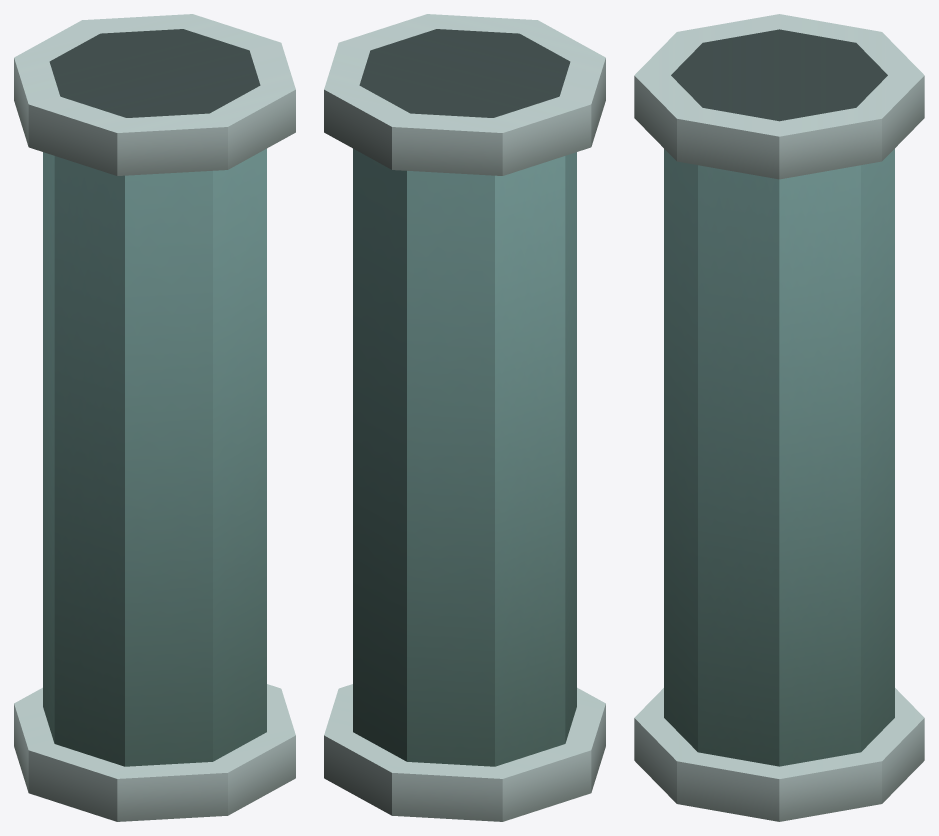
Rendered from pipe.fbx.
3 renders of one model, left to right at view 1: azimuth 30°, elevation 25°; view 2: azimuth 150°, elevation 25°; view 3: azimuth 270°, elevation 25°, orthographic.
Parts seen in each view (by area): view 1: pipe; view 2: pipe; view 3: pipe.
Part boxes in pixels (x1,y1,x2,y2): pipe: [14, 14, 295, 821]; pipe: [324, 14, 605, 821]; pipe: [634, 14, 924, 821].
Bounding box in the file's own units: 101 × 263 × 101.
